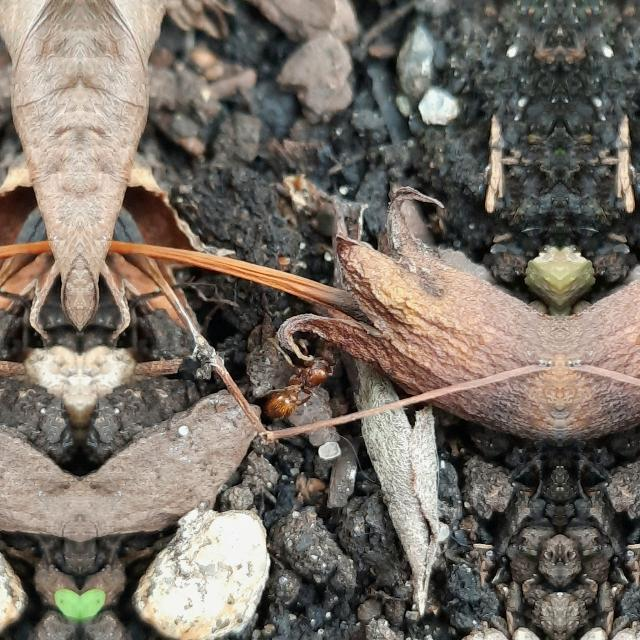Myrmica: (257, 338, 343, 426)
